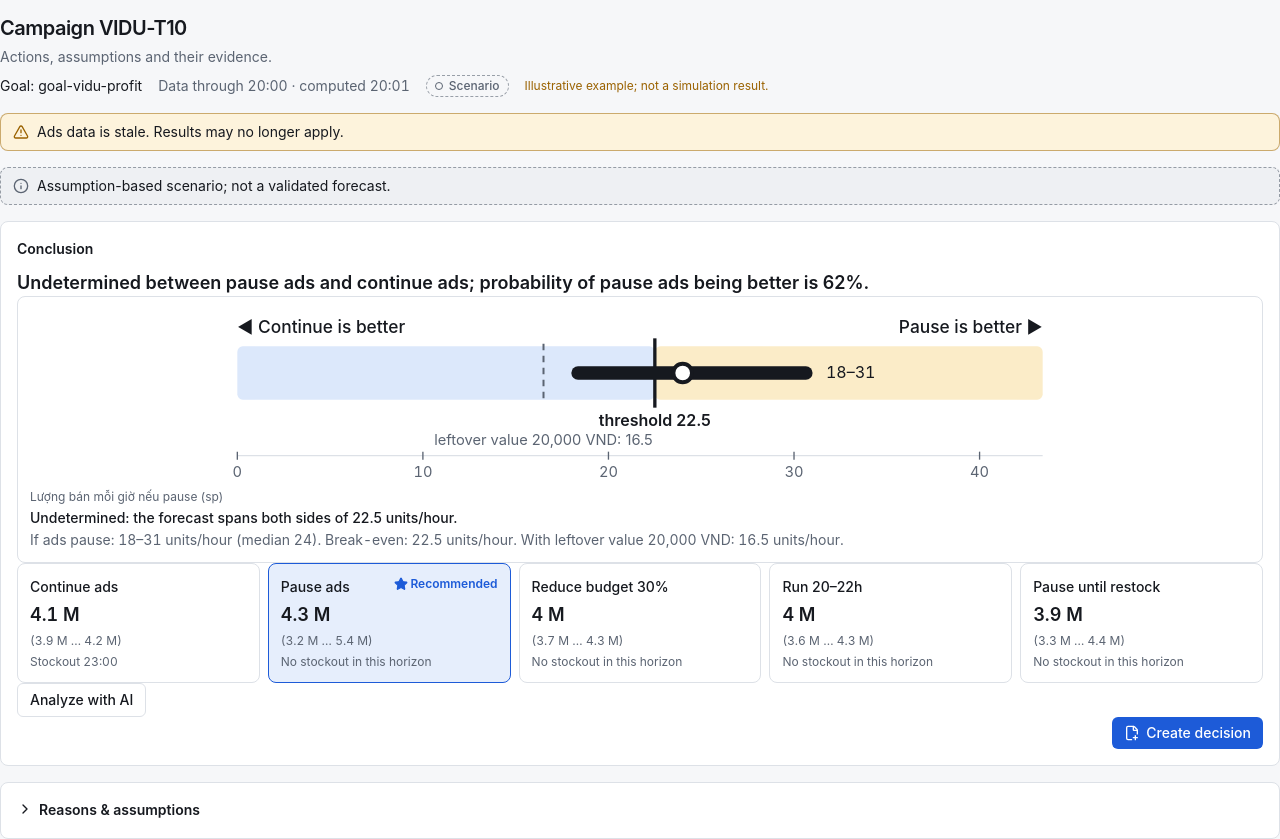
Test: Compare screen · page-10 ZoneBar example (fixture) › page-10 example: 22,5 undetermined → drag leftover value to 20.000đ → 16,5 pause better
Expected: the text "Undetermined between pause ads and continue ads" is shown, [17, 272, 869, 293]
Expected: the text "Assumption-based scenario; not a validated forecast." is shown, [37, 176, 391, 196]
Click the button "Reasons & assumptions". click: [108, 809]
box: [13, 795, 204, 824]
(page scrolled)
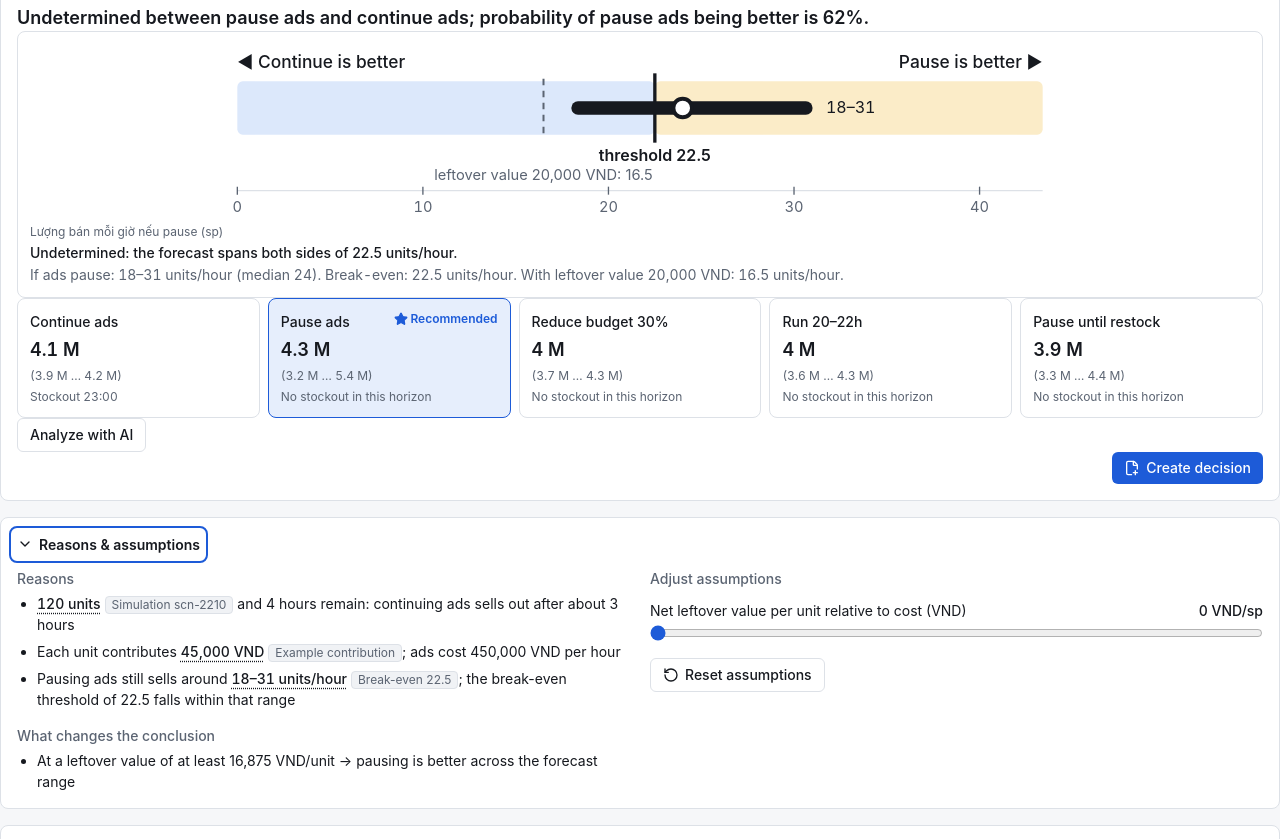
Set the slider labelled "Net leftover value per unit relative to cost (VND) 0 VND/sp" to "20000". click: [923, 633]
box: [650, 625, 1263, 641]
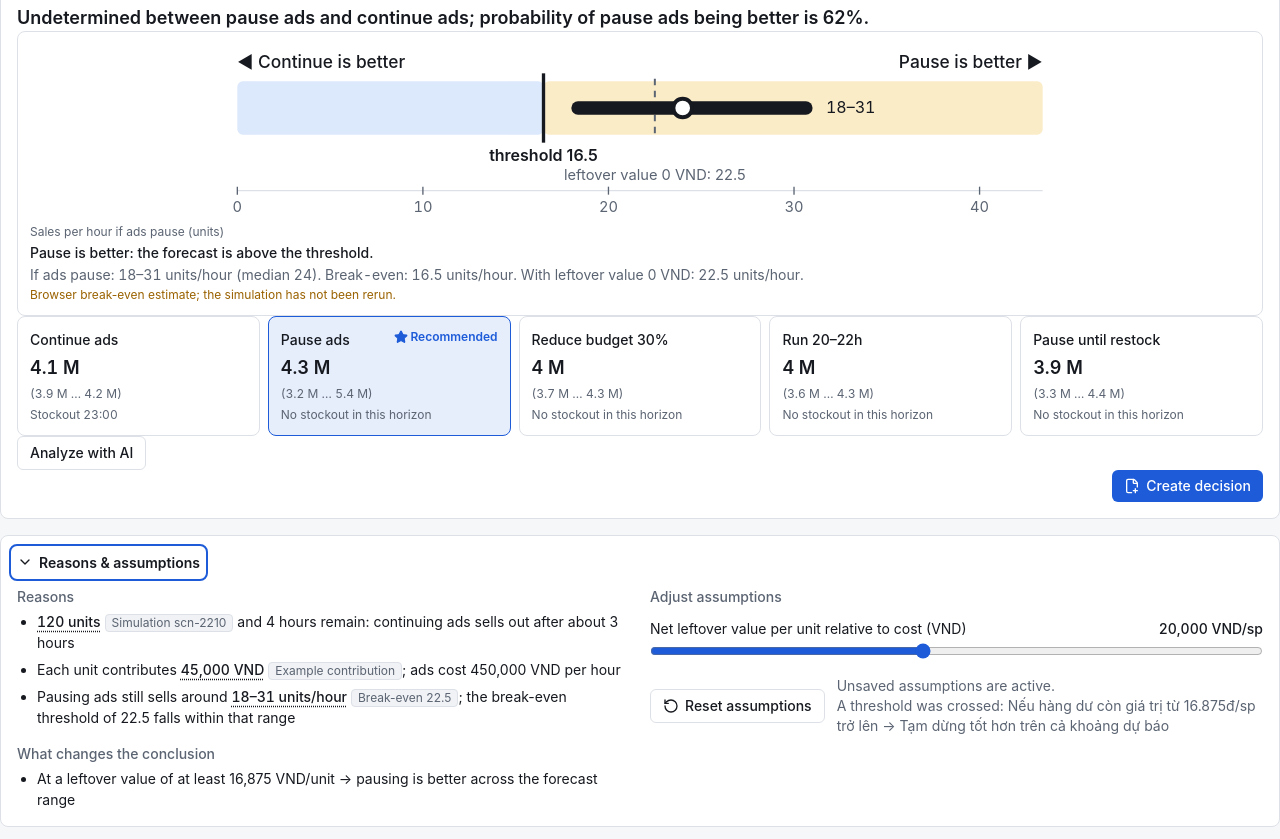
Expected: the text "Browser break-even estimate" is shown, [30, 287, 396, 302]
Expected: the text "A threshold was crossed: Nếu hàng dư còn giá trị từ 16.875đ" is shown, [837, 697, 1256, 734]
